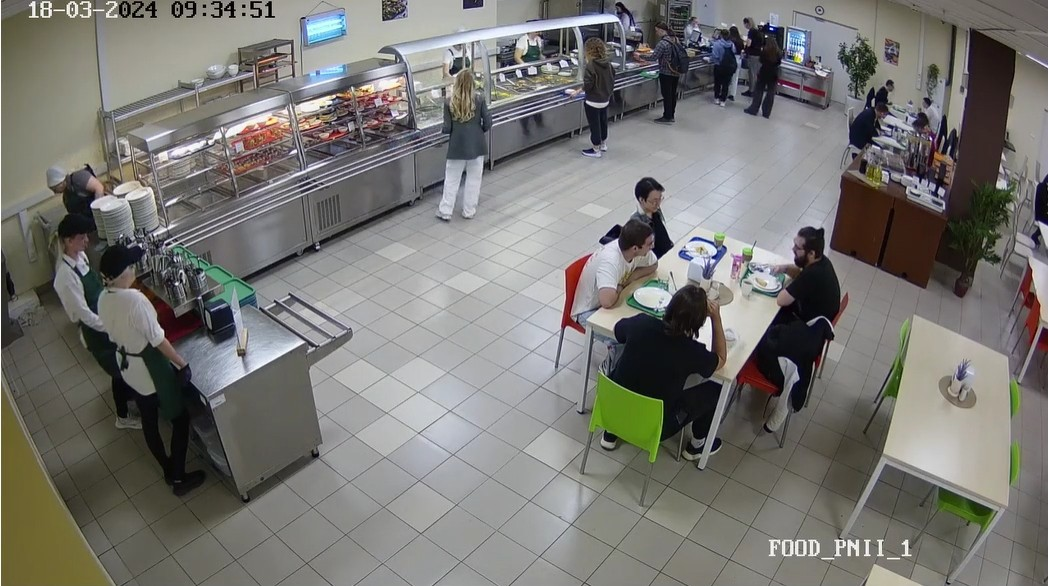Na_Kasse: (744, 31, 786, 115), (701, 35, 739, 105), (734, 11, 760, 70)
Personal: (102, 250, 223, 495), (49, 211, 120, 359), (41, 166, 104, 210), (436, 22, 472, 65), (520, 13, 546, 70), (613, 2, 636, 32), (684, 12, 698, 36)
Vybiraet: (441, 62, 496, 218), (574, 38, 620, 156), (647, 17, 682, 118)
Za_Stolom: (584, 283, 725, 476), (553, 221, 655, 365), (778, 223, 858, 311), (632, 170, 679, 241), (840, 105, 889, 166), (1027, 164, 1048, 248), (866, 71, 900, 111), (912, 116, 943, 156), (913, 87, 938, 112)
